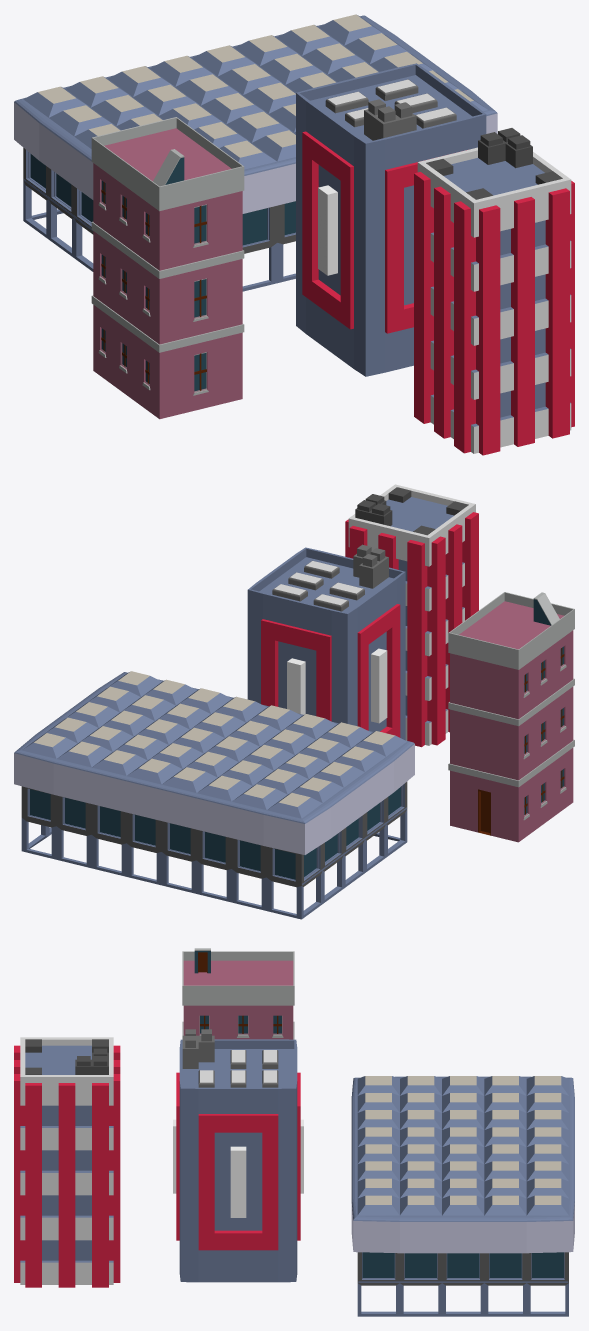
Rendered from Buildings_.fbx.
3 views of the same model, one above another, from view 1: azimuth 30°, elevation 25°; view 2: azimuth 150°, elevation 25°; view 3: azimuth 270°, elevation 25° (orthographic). The views are drawn at different scales.
Parts seen in each view (by area): view 1: Building 3, Building 1, Building 2, Building 4; view 2: Building 1, Building 2, Building 4, Building 3; view 3: Building 1, Building 4, Building 3, Building 2.
Part boxes in pixels (x1=…): Building 3: x1=414, y1=128, x2=574, y2=455; Building 1: x1=14, y1=14, x2=497, y2=291; Building 2: x1=91, y1=117, x2=244, y2=419; Building 4: x1=296, y1=63, x2=486, y2=376; Building 1: x1=14, y1=671, x2=414, y2=919; Building 2: x1=448, y1=592, x2=574, y2=842; Building 4: x1=247, y1=544, x2=405, y2=740; Building 3: x1=345, y1=484, x2=478, y2=747; Building 1: x1=351, y1=1076, x2=574, y2=1316; Building 4: x1=173, y1=1029, x2=303, y2=1282; Building 3: x1=14, y1=1037, x2=120, y2=1287; Building 2: x1=182, y1=948, x2=294, y2=1039.
Size of the model in its own units: 1528 by 875 by 2013.
